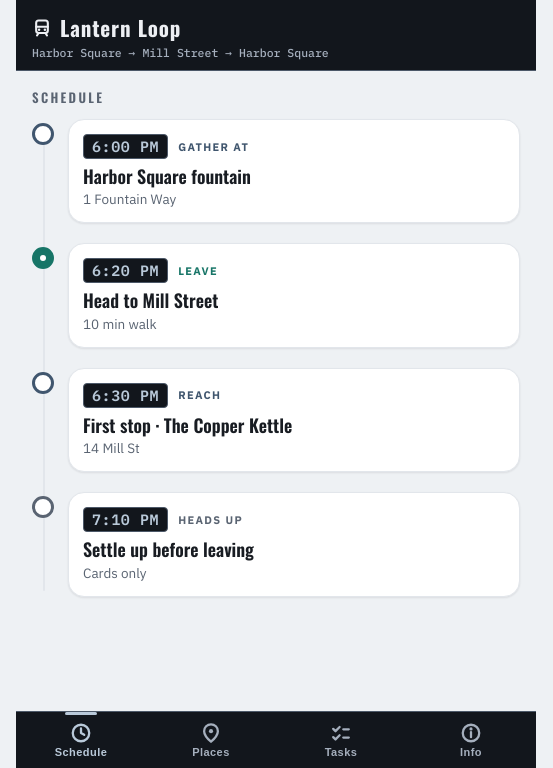
Test case: ignores the old global key
expect the element with test id "view-schedule" is shown: met, box [32,119,520,597]
Click the button "Tasks" at (341, 740), box [276,712,406,767]
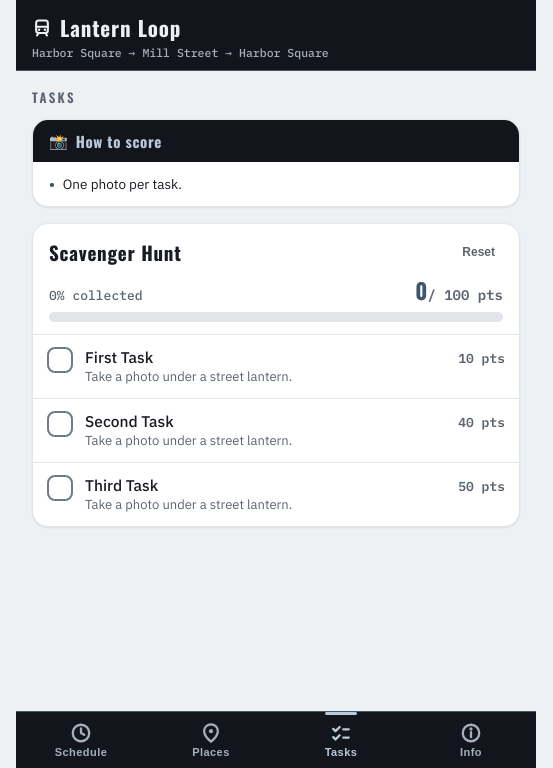
expect the element with test id "view-tasks" is shown: met, box [32,119,520,527]
expect the checkbox labelled "First Task Take a photo under a street lantern. 10 pts" is not checked: met, box [33,335,519,399]
